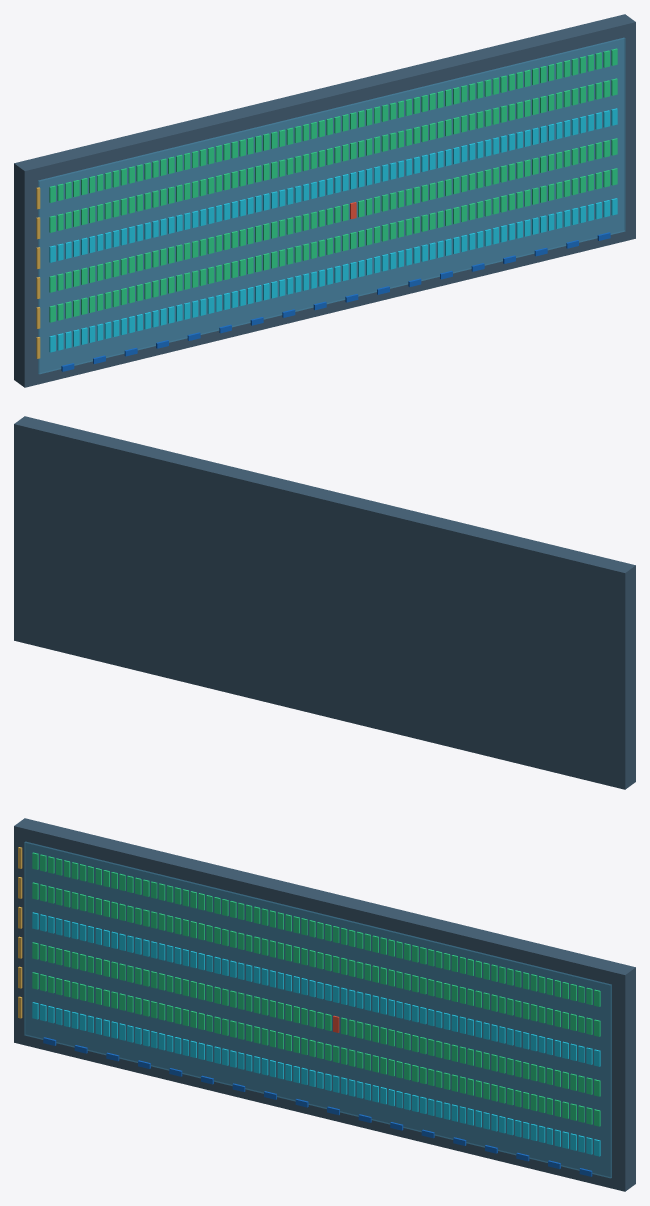
The model's file is 13_L81_GiantMemoryBitStateHologram.fbx.
The picture shows the model from 3 angles, top to bottom: view 1: azimuth 30°, elevation 25°; view 2: azimuth 150°, elevation 25°; view 3: azimuth 330°, elevation 25°; orthographic projection.
Visible parts, largest first — view 1: GiantMemoryBitStateHologram; view 2: GiantMemoryBitStateHologram; view 3: GiantMemoryBitStateHologram.
Boxes of the visible parts, x1=… form: GiantMemoryBitStateHologram: x1=14, y1=14, x2=635, y2=387; GiantMemoryBitStateHologram: x1=14, y1=416, x2=635, y2=789; GiantMemoryBitStateHologram: x1=14, y1=818, x2=635, y2=1191.
Size of the model in its own units: 620 by 210 by 26.5.
